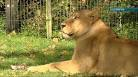lion: (47, 4, 137, 75)
